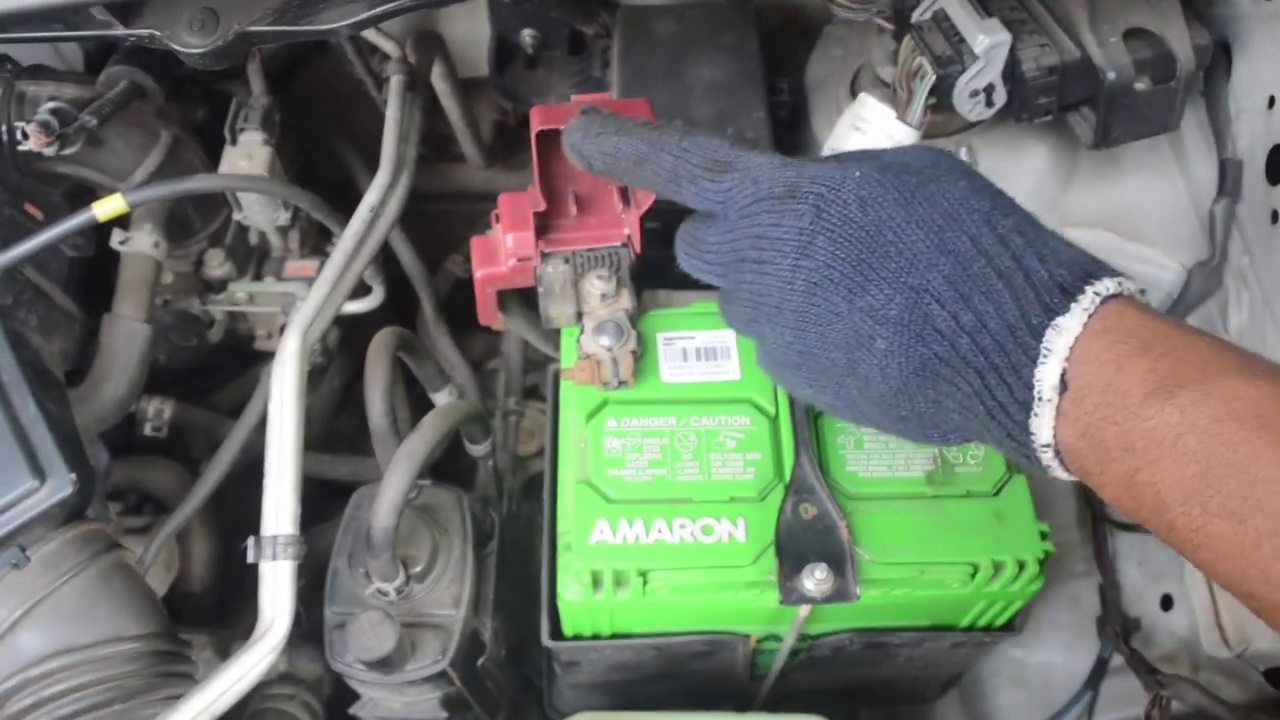battery: (551, 288, 1046, 612)
pos_connected: (497, 150, 659, 390)
pos_touched: (512, 102, 793, 415)
